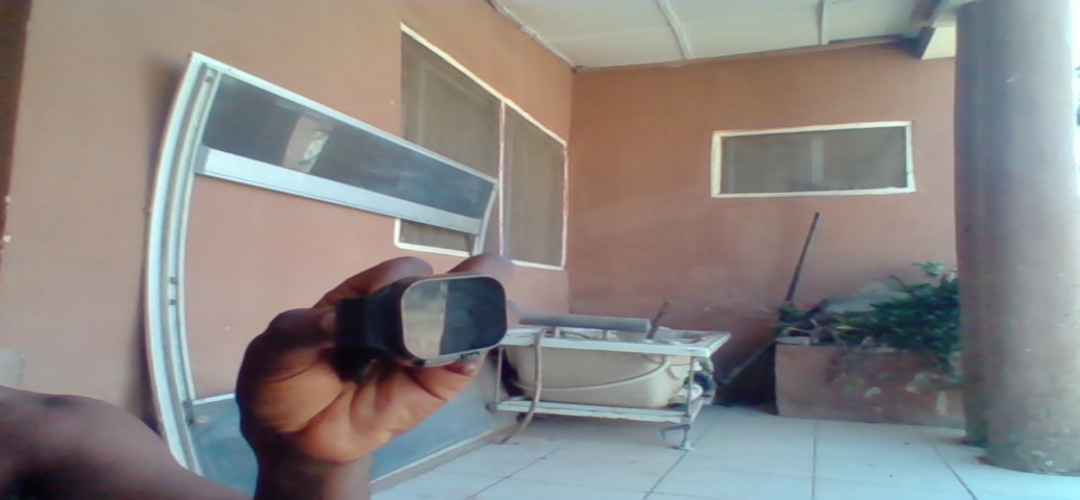smart_watch: (341, 278, 509, 367)
